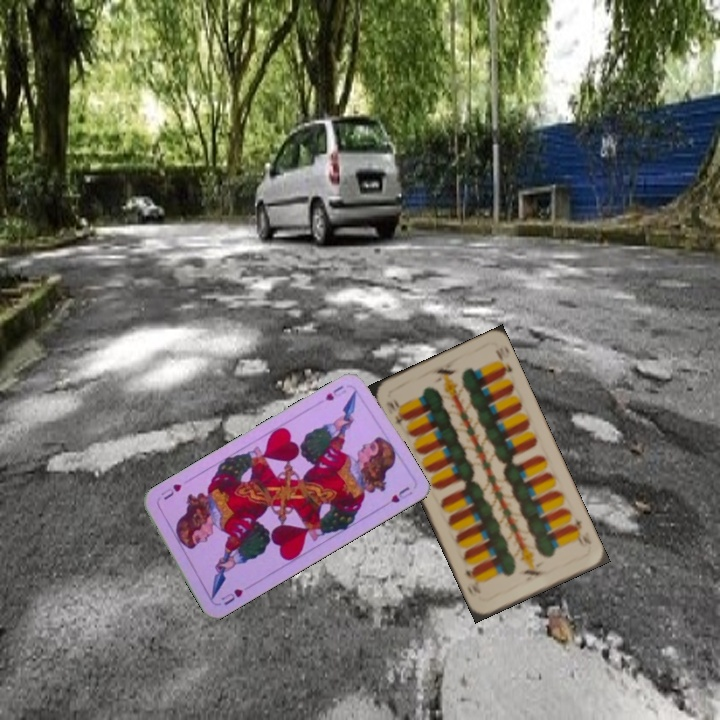E10: (382, 394, 408, 428), (567, 515, 594, 547)
HU: (217, 584, 246, 608), (321, 381, 349, 404)
